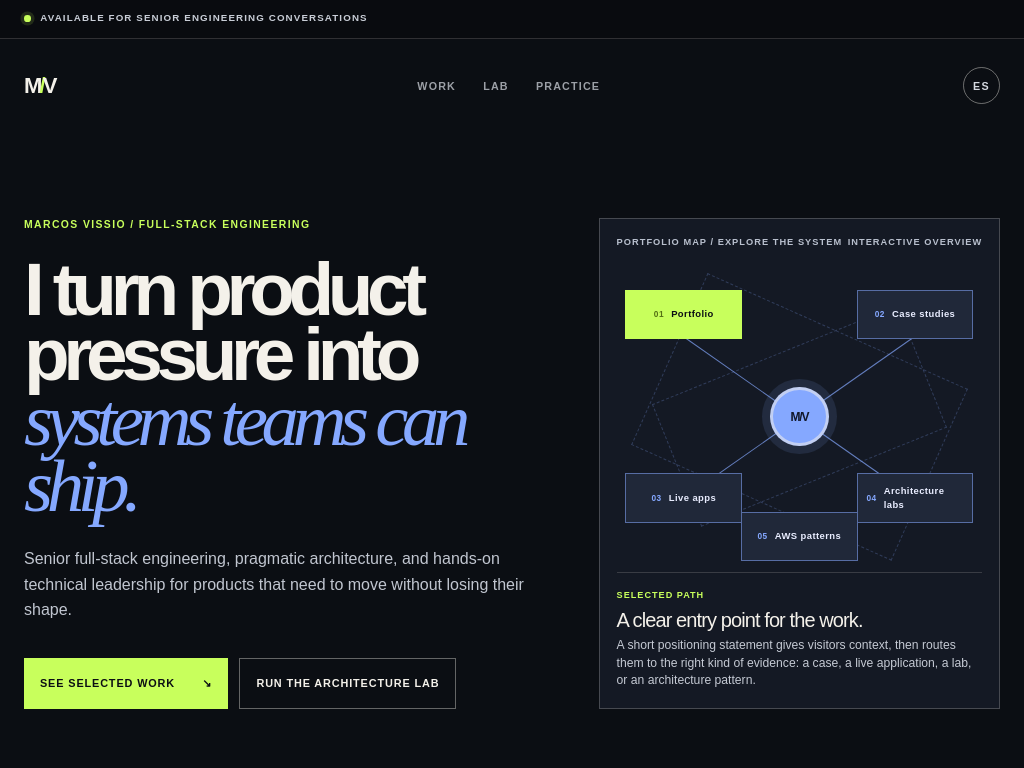
Test: English home page › lets visitors explore the portfolio architecture map
Click the button "05 AWS patterns": [799, 536] box [741, 512, 858, 561]
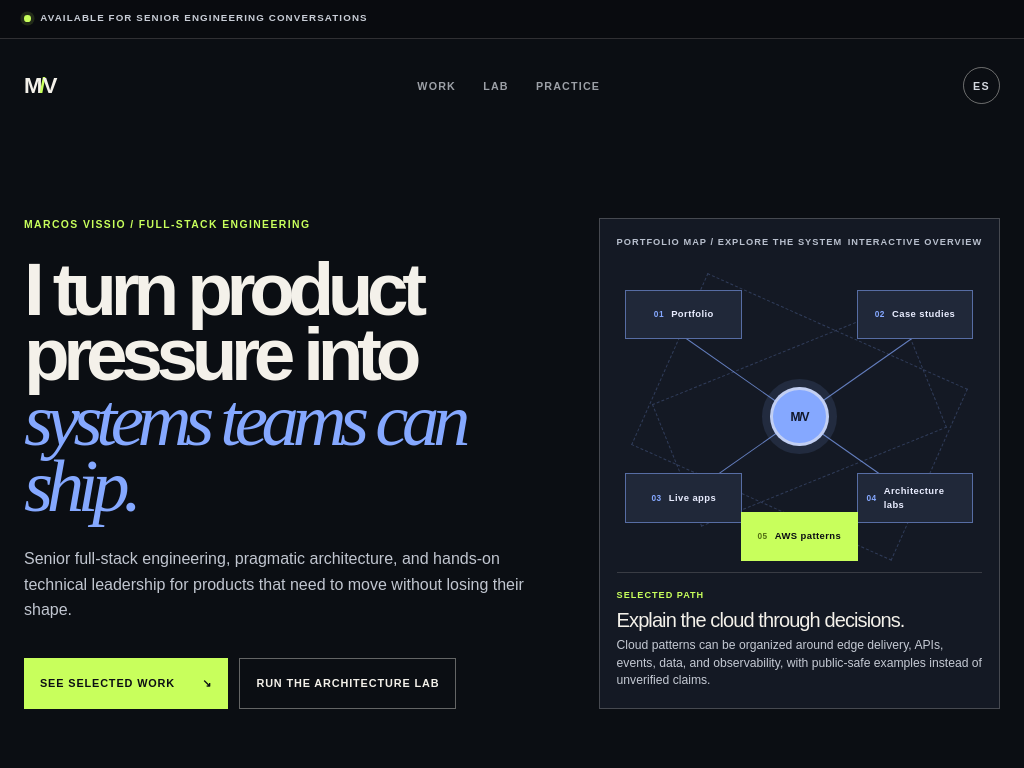
Now the heading "Explain the cloud through decisions." is shown, box [617, 609, 904, 631]
